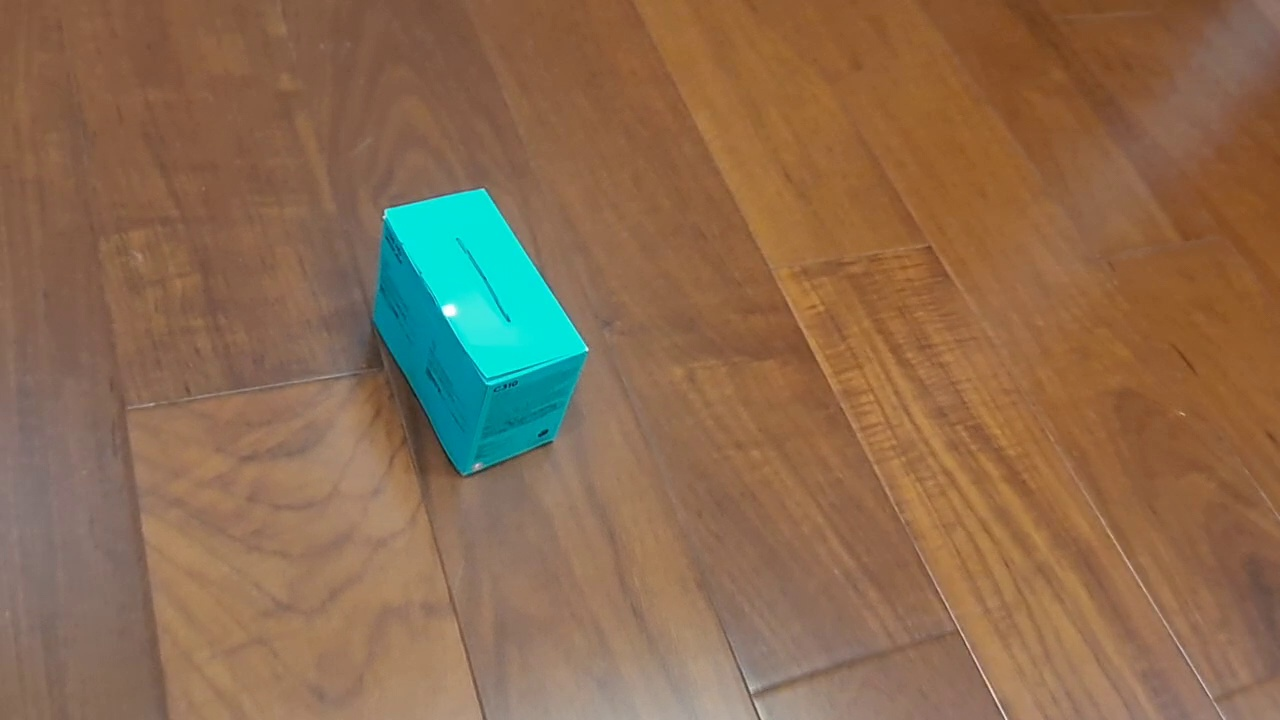webcam: (371, 187, 589, 478)
